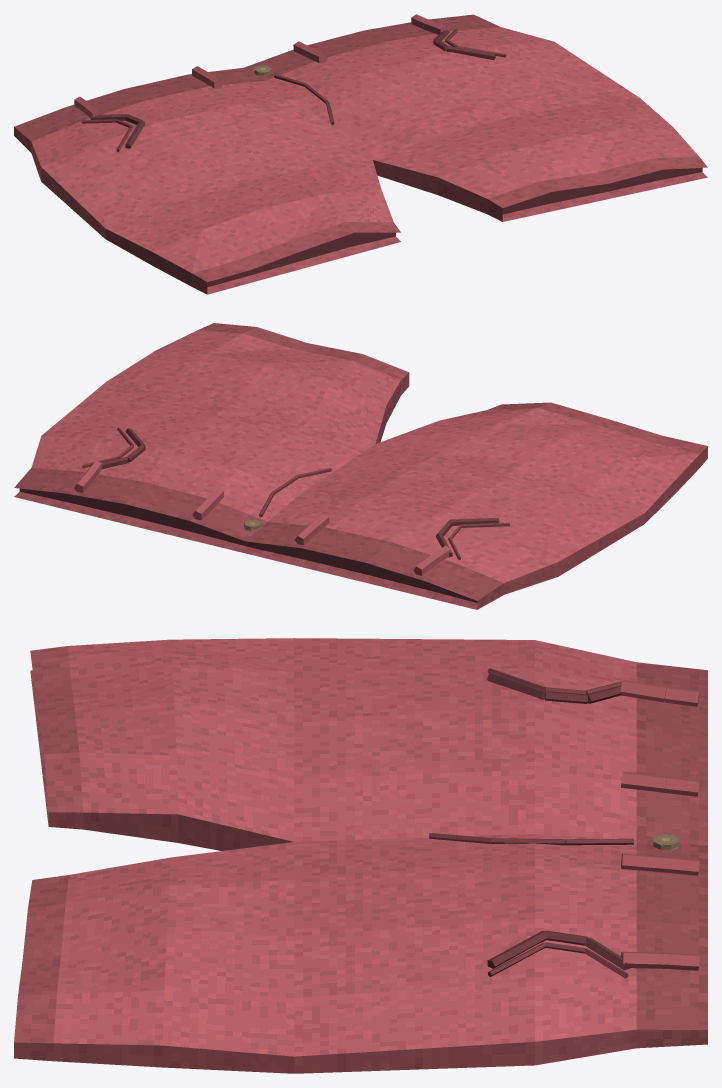
File: hot_pants.glb
3 views of the same model, one above another, from view 1: azimuth 30°, elevation 25°; view 2: azimuth 150°, elevation 25°; view 3: azimuth 270°, elevation 25° (orthographic). The views are drawn at different scales.
Visible parts, largest first — view 1: block_sewn shorts with open waist and cuffs; view 2: block_sewn shorts with open waist and cuffs; view 3: block_sewn shorts with open waist and cuffs, block_belt loop 1 (×4), block_front pocket opening 2.
Boxes of the visible parts, x1,y1,x2,y2 form: block_sewn shorts with open waist and cuffs: (14, 14, 707, 294); block_sewn shorts with open waist and cuffs: (14, 323, 707, 609); block_sewn shorts with open waist and cuffs: (14, 638, 707, 1073); block_belt loop 1 (×4): (620, 680, 667, 968); block_front pocket opening 2: (487, 931, 547, 968).
Size of the model in its own units: 0.365 by 0.0236 by 0.2558.
1 material, 1 textured.
